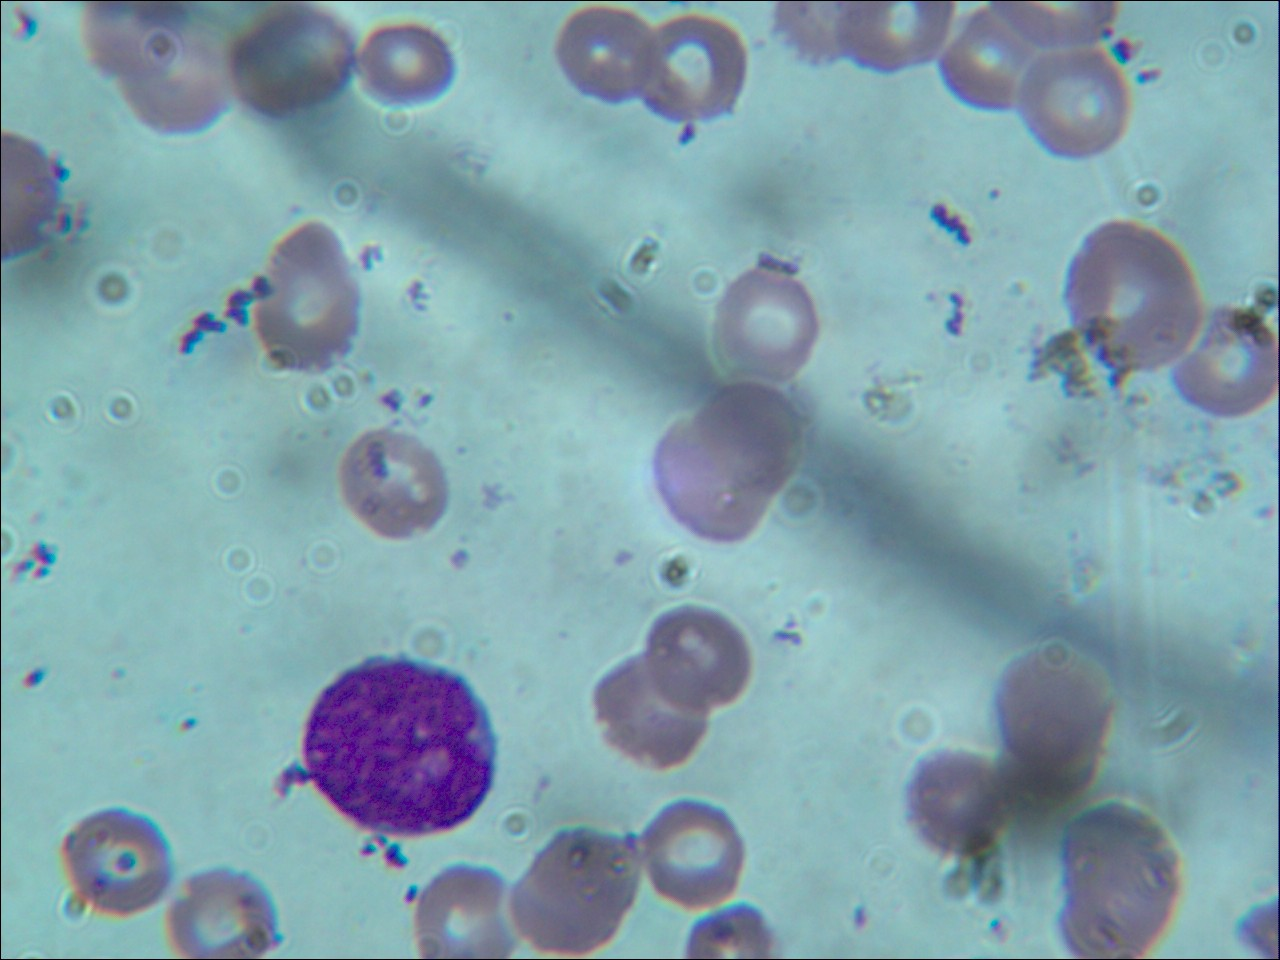Eritrosit: (1064, 214, 1205, 375), (1059, 790, 1178, 960), (252, 221, 367, 378), (650, 422, 777, 555), (512, 825, 639, 953), (998, 650, 1120, 772), (52, 802, 175, 921), (712, 267, 823, 393), (330, 428, 452, 543), (225, 8, 356, 114), (637, 792, 745, 917), (695, 375, 806, 496), (1018, 47, 1134, 162), (121, 14, 228, 137), (639, 15, 746, 133), (593, 661, 702, 772), (556, 2, 661, 115), (906, 739, 1008, 855), (1174, 306, 1277, 419), (648, 603, 750, 714), (165, 868, 280, 960), (408, 862, 512, 960), (346, 22, 464, 108), (830, 2, 955, 81), (940, 8, 1028, 115)
Limfoblast: (300, 658, 495, 836)
Platelet: (18, 658, 52, 706), (15, 542, 56, 580), (40, 153, 80, 192), (596, 537, 636, 572), (439, 542, 480, 575), (373, 834, 408, 871), (400, 880, 433, 917), (670, 118, 700, 155), (981, 183, 1011, 218), (375, 384, 403, 421), (1109, 28, 1139, 61), (170, 706, 199, 740), (848, 897, 877, 928), (1134, 58, 1162, 89), (987, 912, 1012, 943), (918, 286, 943, 314), (412, 389, 437, 414), (498, 302, 517, 330)
